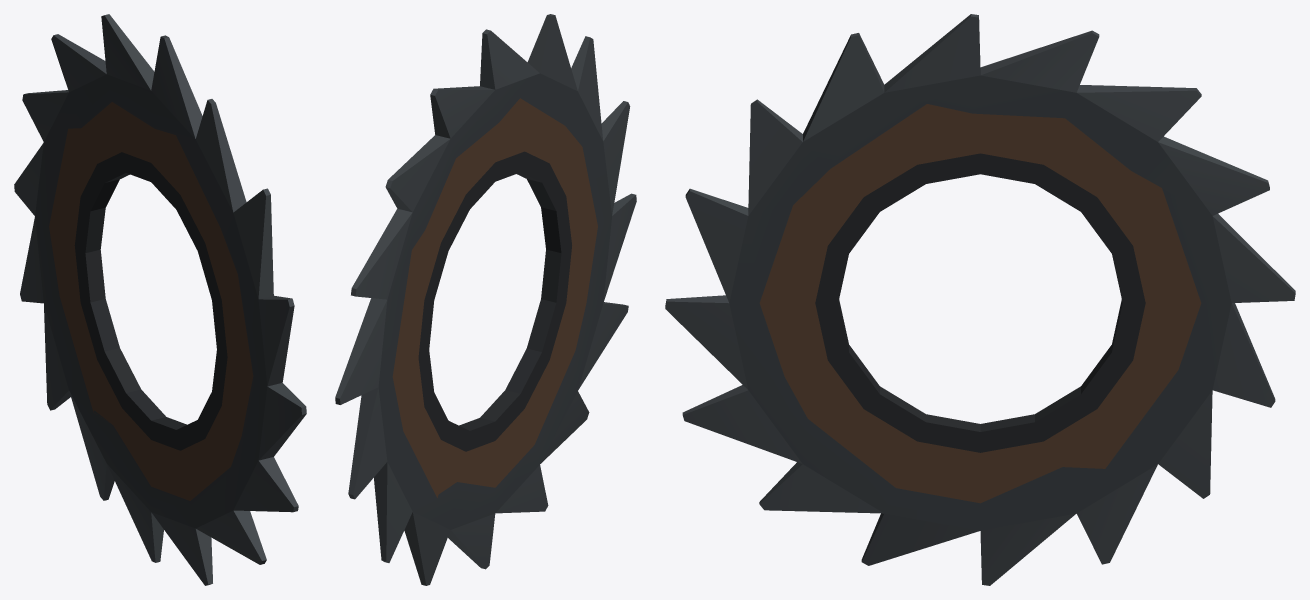
Rendered from SM_Prop_BuzzBlade_01.obj.
The picture shows the model from 3 angles, left to right: view 1: azimuth 30°, elevation 25°; view 2: azimuth 150°, elevation 25°; view 3: azimuth 270°, elevation 25°; orthographic projection. The views are drawn at different scales.
Visible parts, largest first — view 1: SM_Prop_BuzzBlade_01_0; view 2: SM_Prop_BuzzBlade_01_0; view 3: SM_Prop_BuzzBlade_01_0.
Boxes of the visible parts, bbox=[...] form: SM_Prop_BuzzBlade_01_0: bbox=[14, 14, 306, 585]; SM_Prop_BuzzBlade_01_0: bbox=[335, 14, 636, 585]; SM_Prop_BuzzBlade_01_0: bbox=[665, 14, 1295, 585].
Size of the model in its own units: 0.00808 by 0.2658 by 0.2658.
Materials: 1 (1 with a texture image).
